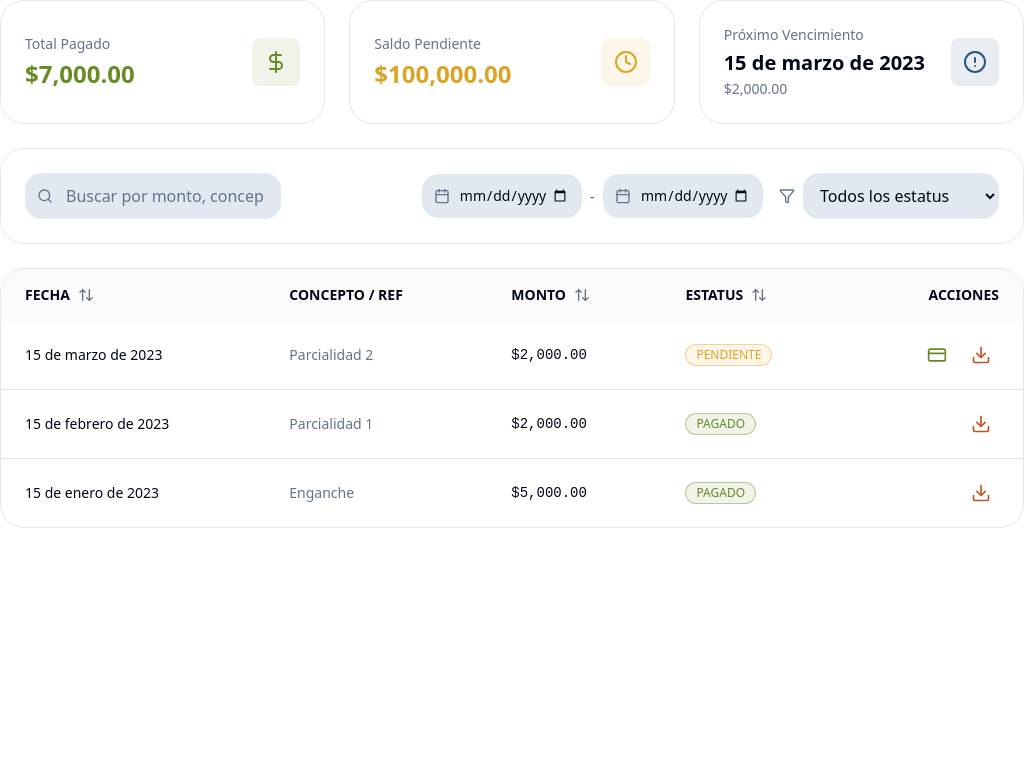
Test: TablaPagosCliente Component › filters by date range
Type "2023-02-01" into the date field with placeholder "Desde" at (502, 196), box x1=422 y1=174 x2=582 y2=218
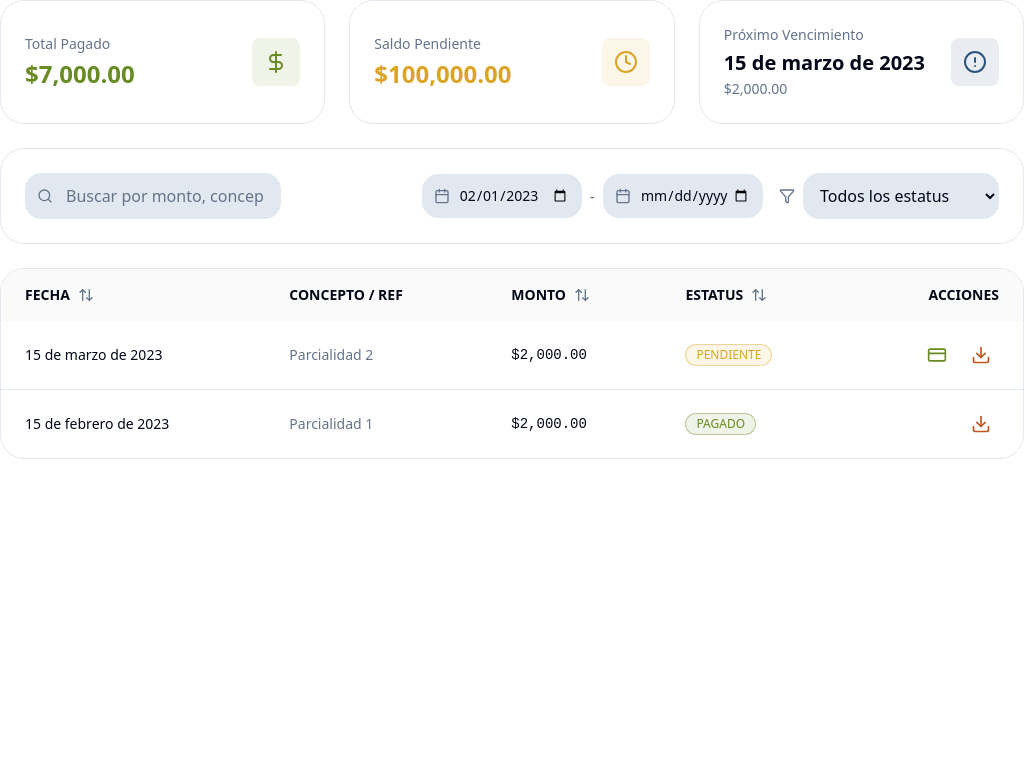
Type "2023-02-28" into the date field with placeholder "Hasta" at (683, 196), box x1=603 y1=174 x2=763 y2=218
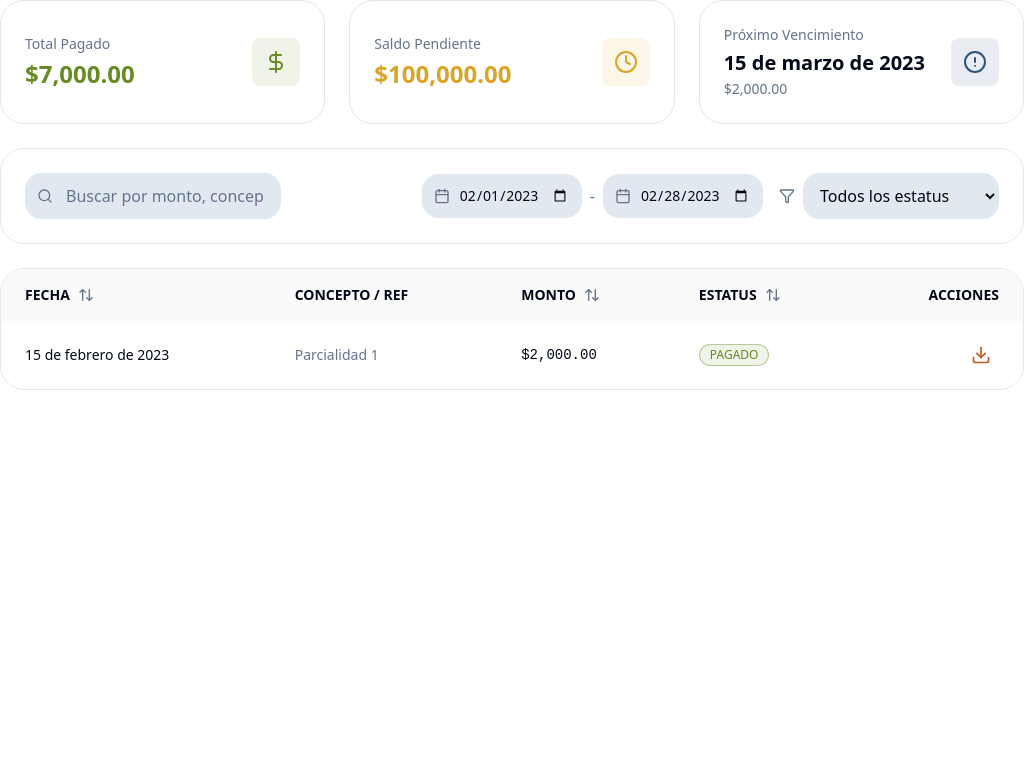
Expected: the text "Parcialidad 1" is shown, x1=271 y1=321 x2=497 y2=389
Expected: the text "Parcialidad 2" is gone
